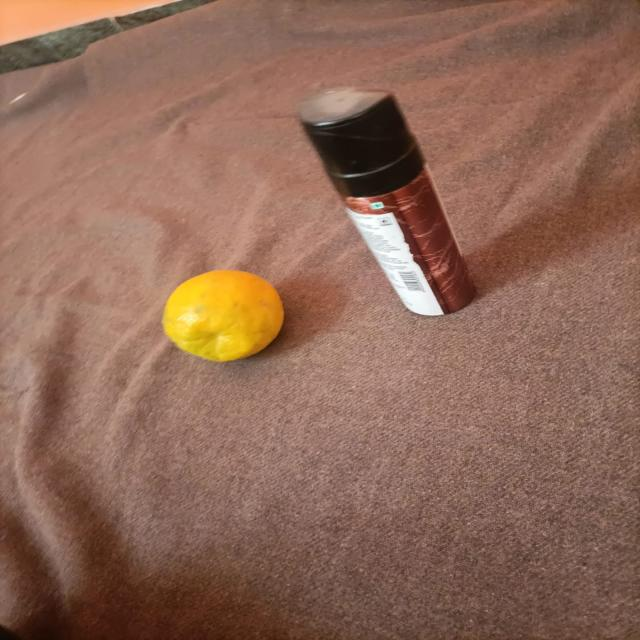orange: (141, 262, 303, 374)
spray: (259, 60, 514, 345)
